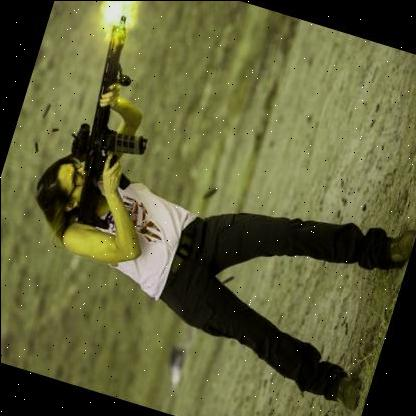rifle: (39, 5, 187, 239)
